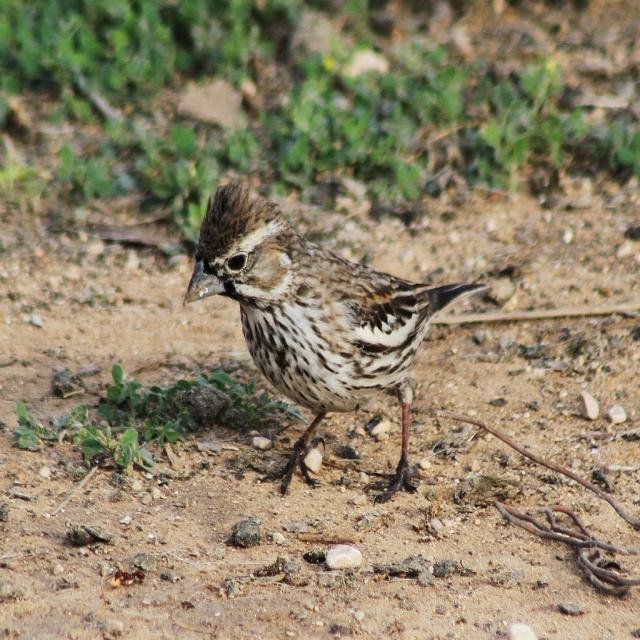bird: (178, 180, 484, 503)
